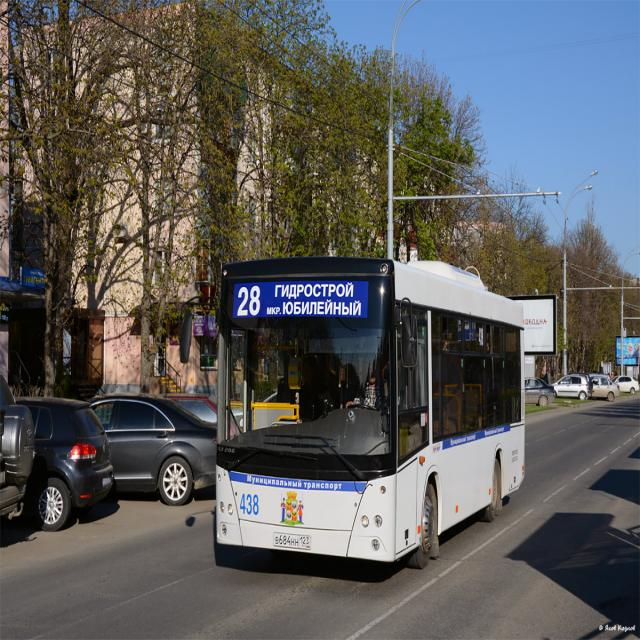number-of-bus: (236, 284, 264, 320)
